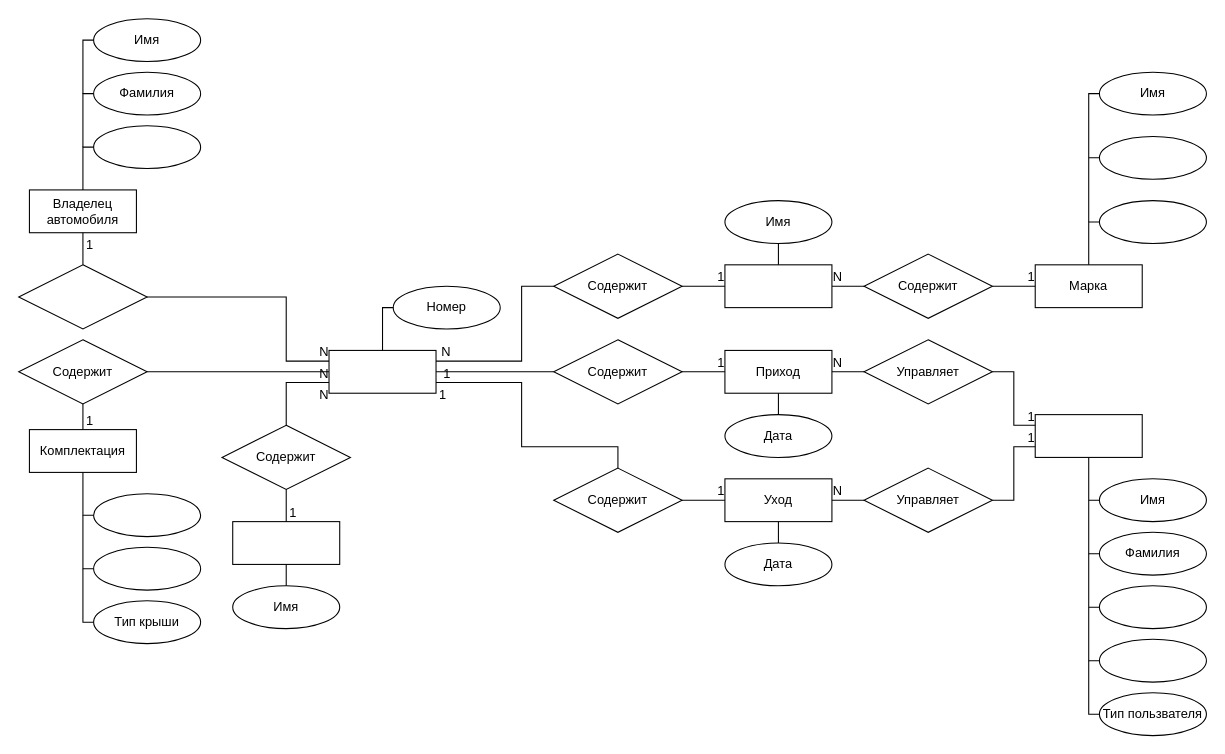
Some shapes in this 1225 by 754 pixel diagram are drawn without their labels. The shapes that lost their labels are listed below. From the top down, each one's centre as x and y in pixels, then its label:
(147,147): Почта
(1152,157): Страна-производитель
(1152,221): Руль
(82,296): Владеет
(778,286): Модель
(382,371): Автомобиль
(1088,435): Пользователь
(147,515): Категория
(286,542): Цвет
(147,568): Привод
(1152,607): Логин
(1152,660): Пароль
